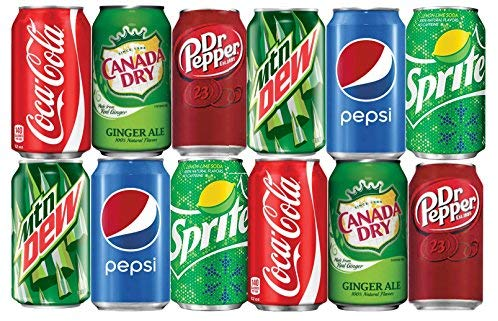Lata: (88, 1, 173, 159)
